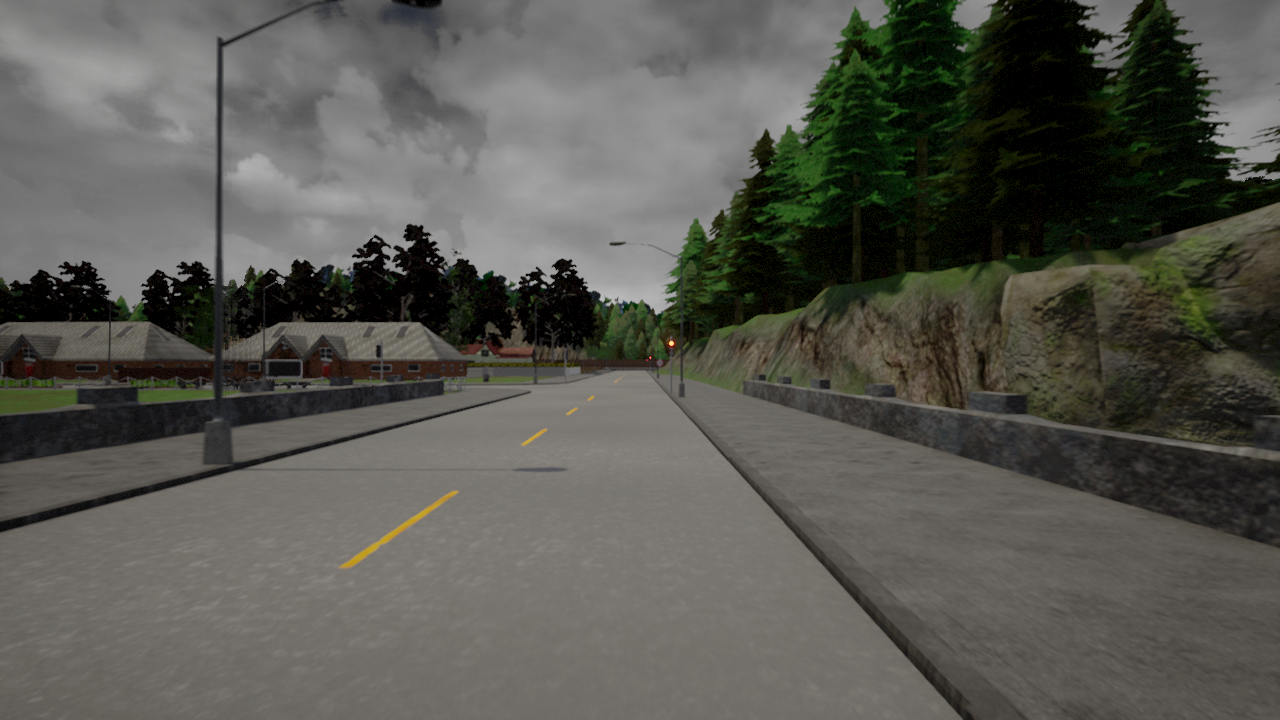red: (667, 339, 674, 355)
